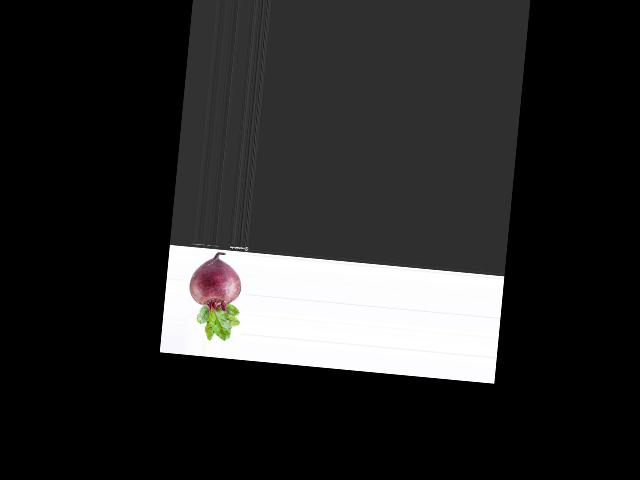beet: (184, 250, 245, 343)
